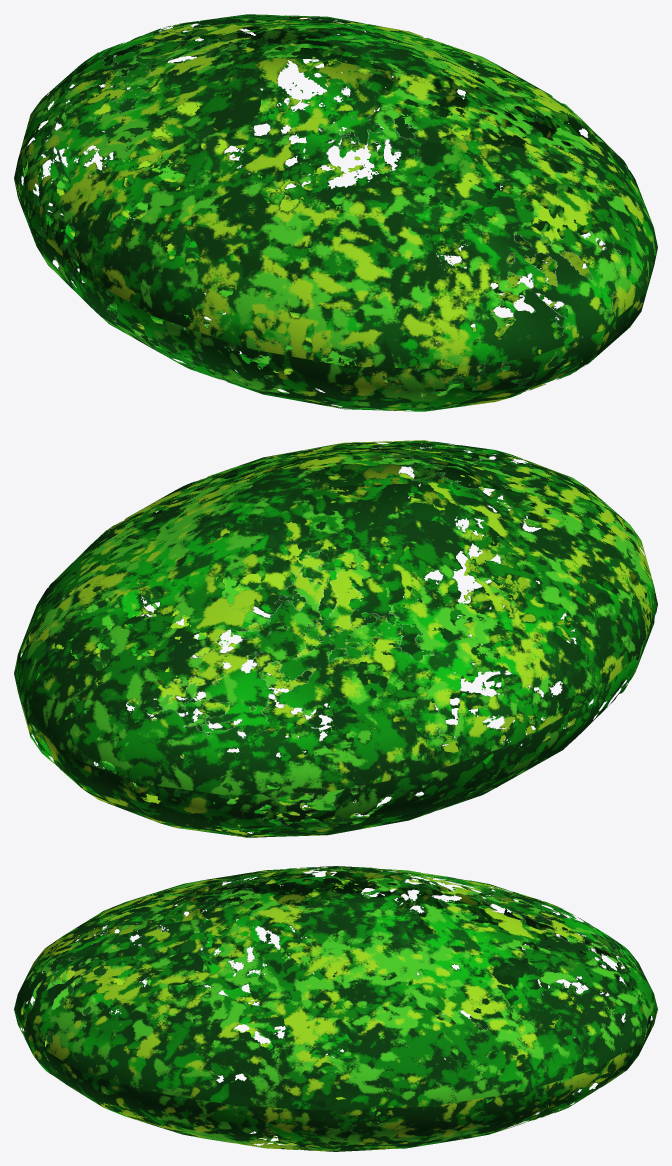
Rendered from Tree_Leaves.fbx.
3 renders of one model, top to bottom at view 1: azimuth 30°, elevation 25°; view 2: azimuth 150°, elevation 25°; view 3: azimuth 270°, elevation 25°, orthographic. The views are drawn at different scales.
Visible parts, largest first — view 1: pSphere1; view 2: pSphere1; view 3: pSphere1.
Part boxes in pixels (x1=…): pSphere1: x1=14, y1=14, x2=657, y2=411; pSphere1: x1=14, y1=440, x2=657, y2=837; pSphere1: x1=14, y1=866, x2=657, y2=1151.
Bounding box in the file's own units: 854 × 438 × 1145.
